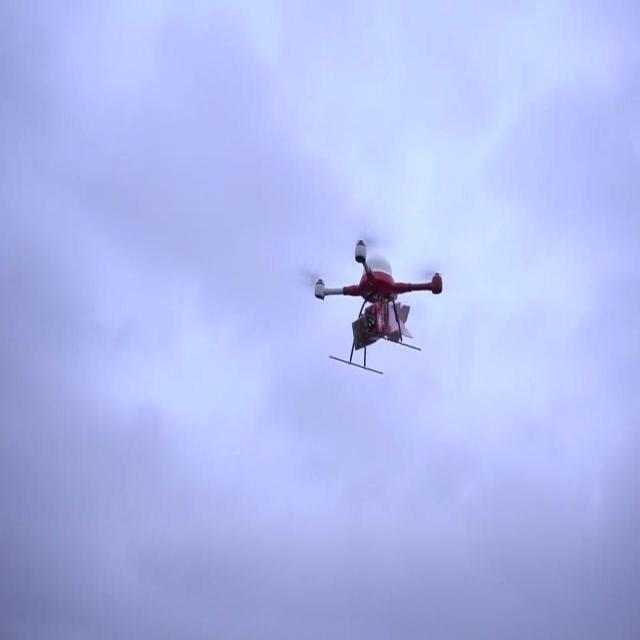UAV: (312, 233, 442, 374)
